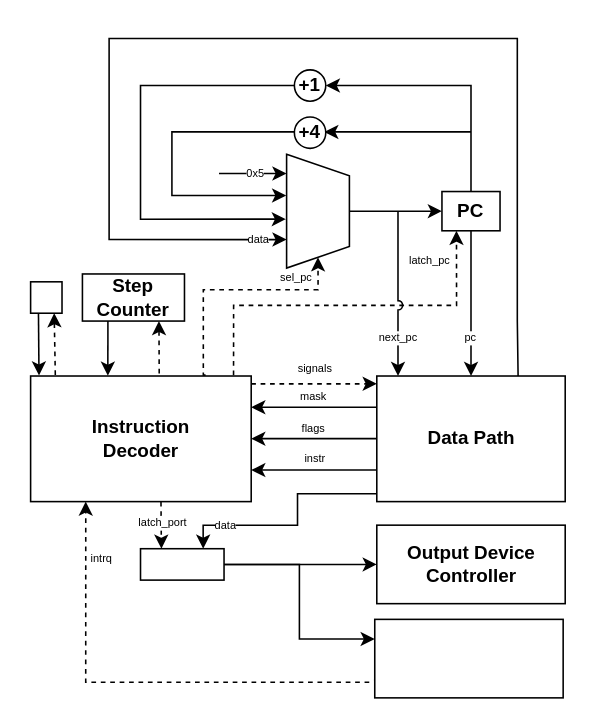
This 593x725 diagram has some shape labels left out. Each missing label, with the centre of its shape:
EI: [45,296]
Input Device Controller: [468,658]
MUX: [317,210]
PORT: [181,563]
